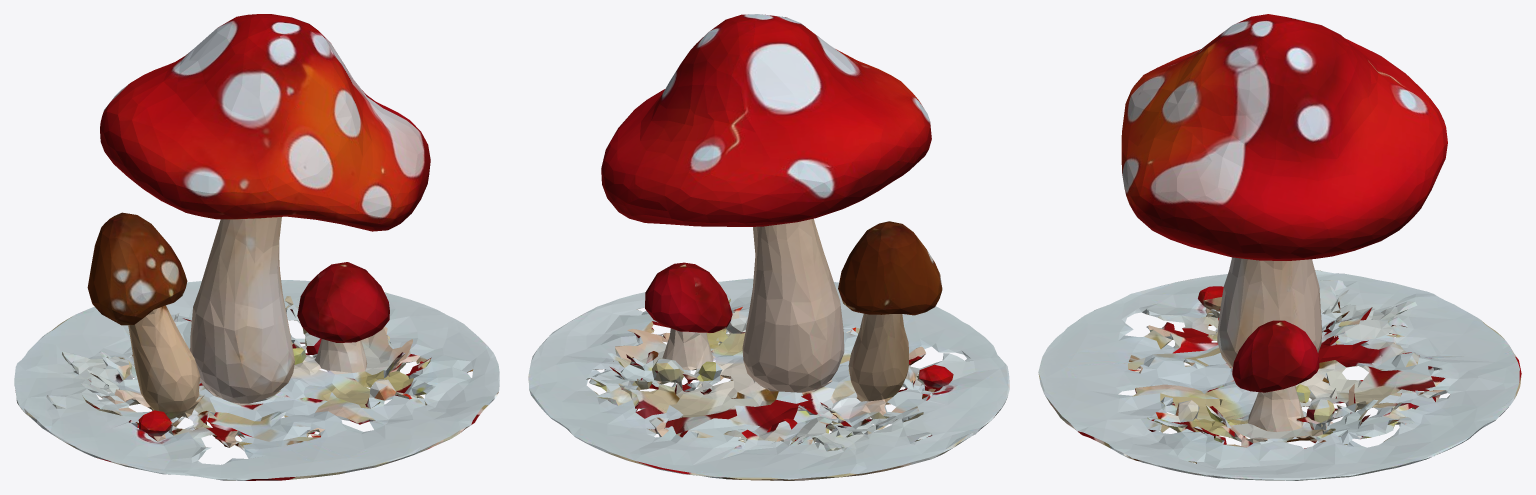
File: mushroom_cluster.glb
The picture shows the model from 3 angles, left to right: view 1: azimuth 30°, elevation 25°; view 2: azimuth 150°, elevation 25°; view 3: azimuth 270°, elevation 25°; orthographic projection.
Parts seen in each view (by area): view 1: tmp7rf9aid3.ply; view 2: tmp7rf9aid3.ply; view 3: tmp7rf9aid3.ply.
Part boxes in pixels (x1,y1,x2,y2): tmp7rf9aid3.ply: [14, 14, 499, 480]; tmp7rf9aid3.ply: [528, 14, 1009, 480]; tmp7rf9aid3.ply: [1038, 14, 1521, 480].
Bounding box in the file's own units: 1.99 × 1.65 × 1.95.
Materials: 1 (1 with a texture image).
